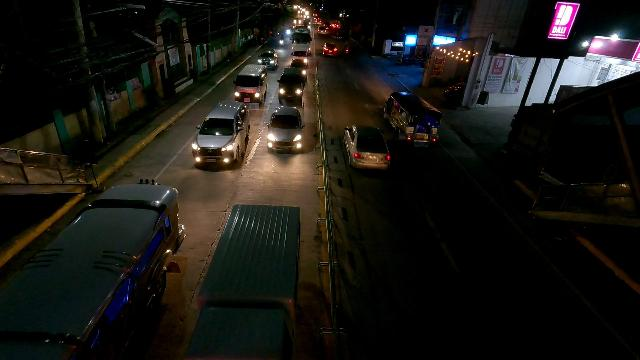car: (191, 101, 250, 167), (343, 125, 391, 169), (266, 105, 304, 152), (276, 68, 304, 103), (259, 48, 278, 69), (322, 42, 338, 57), (317, 25, 327, 35)
jeepney: (0, 180, 185, 360), (384, 91, 443, 146)
motorcycle: (278, 33, 285, 47)
van: (187, 205, 300, 360), (233, 63, 268, 103), (290, 43, 310, 66)
